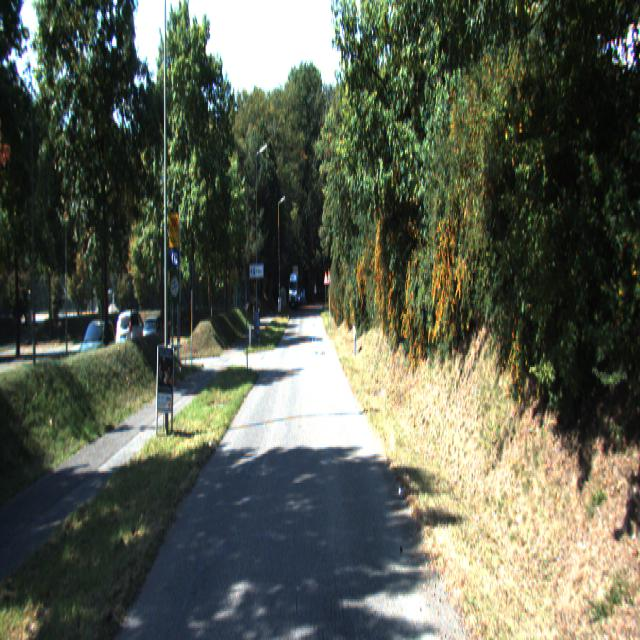Car: (75, 319, 119, 384), (115, 310, 147, 358)
